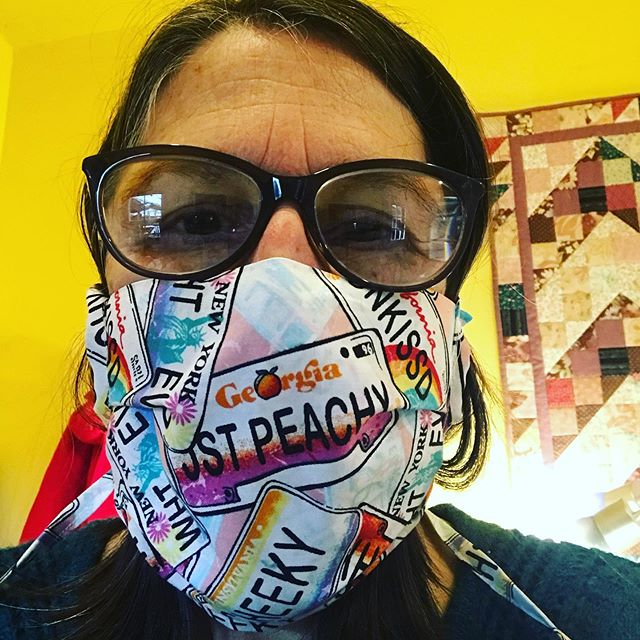homemade: (85, 271, 485, 630)
